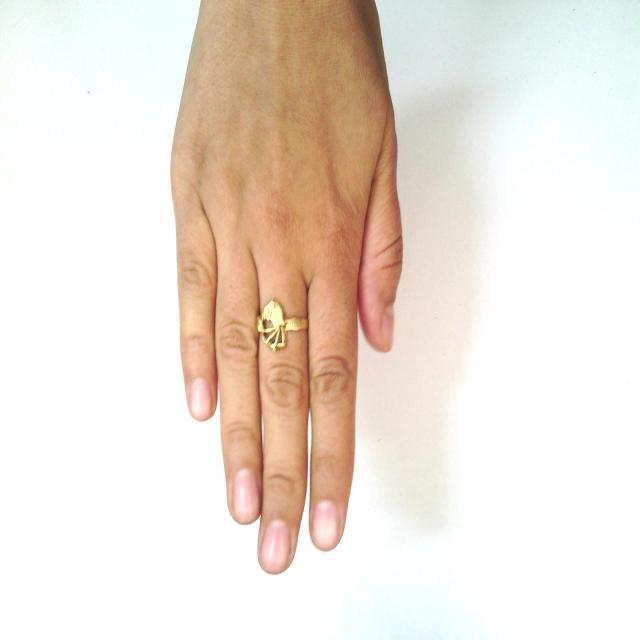Fingernail: (261, 519, 290, 572), (233, 469, 258, 522), (312, 501, 338, 549), (190, 379, 211, 418), (382, 308, 394, 345)
